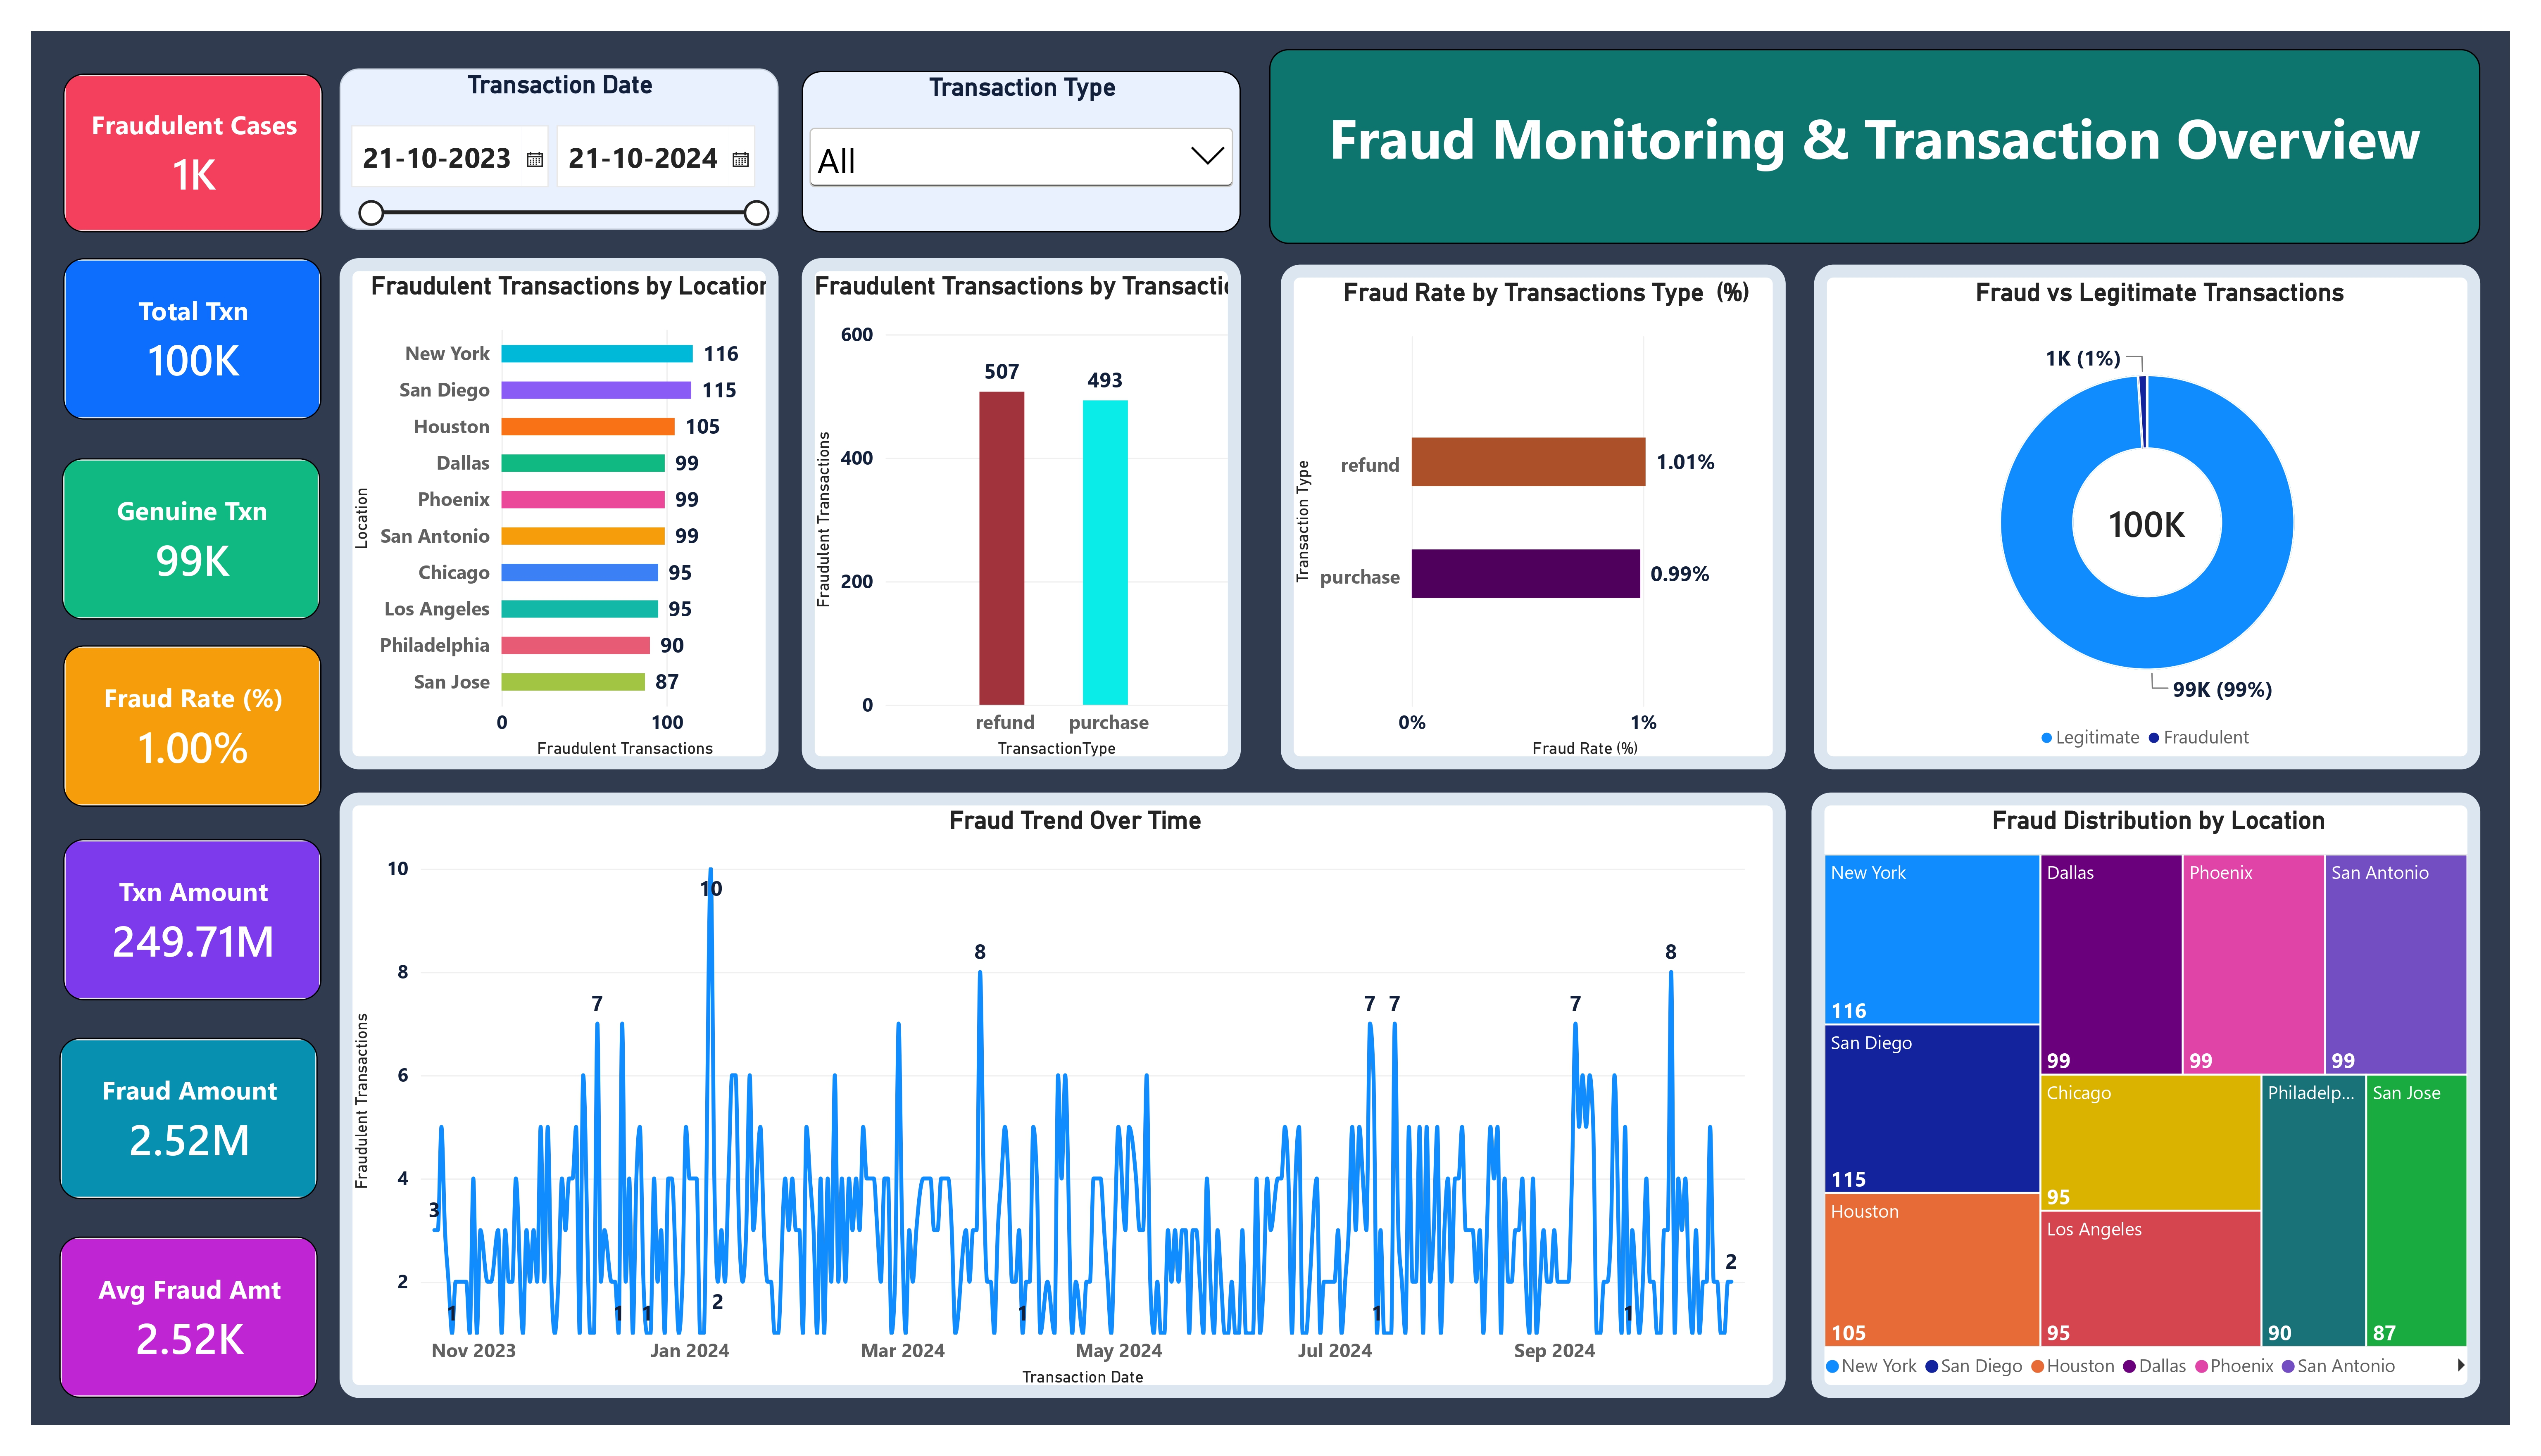

Layout of this report page (visuals, bound fields, positions):
{"tool":"powerbi","page":{"name":"Page 1","canvas":[1920,1080],"ordinal":0},"visuals":[{"type":"cardVisual","fields":{"Data":["credit_card_fraud_dataset.Total Transactions"]},"box":[25.3,175.5,200,125],"z":0},{"type":"cardVisual","fields":{"Data":["credit_card_fraud_dataset.Fraudulent Transactions"]},"box":[25,32.7,201,123.1],"z":1000},{"type":"cardVisual","fields":{"Data":["credit_card_fraud_dataset.Legitimate Transactions"]},"box":[23.5,331.2,200,125],"z":2000},{"type":"cardVisual","fields":{"Data":["credit_card_fraud_dataset.Fraud Rate (%)"]},"box":[25.3,475.9,200,125],"z":3000},{"type":"cardVisual","fields":{"Data":["credit_card_fraud_dataset.Total Transaction Amount"]},"box":[25.3,626.1,200,125],"z":4000},{"type":"cardVisual","fields":{"Data":["credit_card_fraud_dataset.Fraud Transaction Amount"]},"box":[21.7,780,200,125],"z":5000},{"type":"cardVisual","fields":{"Data":["credit_card_fraud_dataset.Average Fraud Amount"]},"box":[21.7,933.8,200,125],"z":6000},{"type":"lineChart","title":"Fraud Trend Over Time","fields":{"Category":["credit_card_fraud_dataset.TransactionDate"],"Y":["credit_card_fraud_dataset.Fraudulent Transactions"]},"box":[238.9,589.9,1120.2,468.7],"z":7000},{"type":"donutChart","title":"Fraud vs Legitimate Transactions","fields":{"Category":["credit_card_fraud_dataset.Fraud Status"],"Y":["credit_card_fraud_dataset.Total Transactions"]},"box":[1380.8,181,515.8,390.9],"z":8000},{"type":"clusteredBarChart","title":"Fraudulent Transactions by Location","fields":{"Category":["credit_card_fraud_dataset.Location"],"Y":["credit_card_fraud_dataset.Fraudulent Transactions"]},"box":[238.9,175.5,340.2,396.3],"z":9000},{"type":"columnChart","title":"Fraudulent Transactions by Transaction Type","fields":{"Category":["credit_card_fraud_dataset.TransactionType"],"Y":["credit_card_fraud_dataset.Fraudulent Transactions"]},"box":[597.2,175.5,340.2,396.3],"z":10000},{"type":"clusteredBarChart","title":"Fraud Rate by Transactions Type  (%)","fields":{"Category":["credit_card_fraud_dataset.TransactionType"],"Y":["credit_card_fraud_dataset.Fraud Rate (%)"]},"box":[968.2,181,390.9,390.9],"z":11000},{"type":"slicer","title":"Transaction Date","fields":{"Values":["credit_card_fraud_dataset.TransactionDate"]},"box":[238.9,29,340,125],"z":12000},{"type":"slicer","title":"Transaction Type","fields":{"Values":["credit_card_fraud_dataset.TransactionType"]},"box":[597.2,30.8,340,125],"z":13000},{"type":"treemap","title":"Fraud Distribution by Location","fields":{"Group":["credit_card_fraud_dataset.Location"],"Values":["credit_card_fraud_dataset.Fraudulent Transactions"]},"box":[1379,589.9,517.6,468.7],"z":14000},{"type":"textbox","box":[959.1,14.5,937.4,150.2],"z":15000}]}

Visuals, with their boxes in screenshot pixels (x1, y1, x2, y2):
cardVisual - credit_card_fraud_dataset.Total Transactions: {"x1": 59, "y1": 242, "x2": 321, "y2": 405}
cardVisual - credit_card_fraud_dataset.Fraudulent Transactions: {"x1": 59, "y1": 56, "x2": 321, "y2": 216}
cardVisual - credit_card_fraud_dataset.Legitimate Transactions: {"x1": 57, "y1": 445, "x2": 318, "y2": 608}
cardVisual - credit_card_fraud_dataset.Fraud Rate (%): {"x1": 59, "y1": 634, "x2": 321, "y2": 797}
cardVisual - credit_card_fraud_dataset.Total Transaction Amount: {"x1": 59, "y1": 830, "x2": 321, "y2": 993}
cardVisual - credit_card_fraud_dataset.Fraud Transaction Amount: {"x1": 55, "y1": 1031, "x2": 316, "y2": 1194}
cardVisual - credit_card_fraud_dataset.Average Fraud Amount: {"x1": 55, "y1": 1232, "x2": 316, "y2": 1395}
"Fraud Trend Over Time" lineChart: {"x1": 338, "y1": 783, "x2": 1800, "y2": 1394}
"Fraud vs Legitimate Transactions" donutChart: {"x1": 1829, "y1": 249, "x2": 2502, "y2": 760}
"Fraudulent Transactions by Location" clusteredBarChart: {"x1": 338, "y1": 242, "x2": 782, "y2": 759}
"Fraudulent Transactions by Transaction Type" columnChart: {"x1": 806, "y1": 242, "x2": 1250, "y2": 759}
"Fraud Rate by Transactions Type  (%)" clusteredBarChart: {"x1": 1290, "y1": 249, "x2": 1800, "y2": 760}
"Transaction Date" slicer: {"x1": 338, "y1": 51, "x2": 782, "y2": 214}
"Transaction Type" slicer: {"x1": 806, "y1": 53, "x2": 1250, "y2": 216}
"Fraud Distribution by Location" treemap: {"x1": 1826, "y1": 783, "x2": 2502, "y2": 1394}
textbox: {"x1": 1278, "y1": 32, "x2": 2502, "y2": 228}
